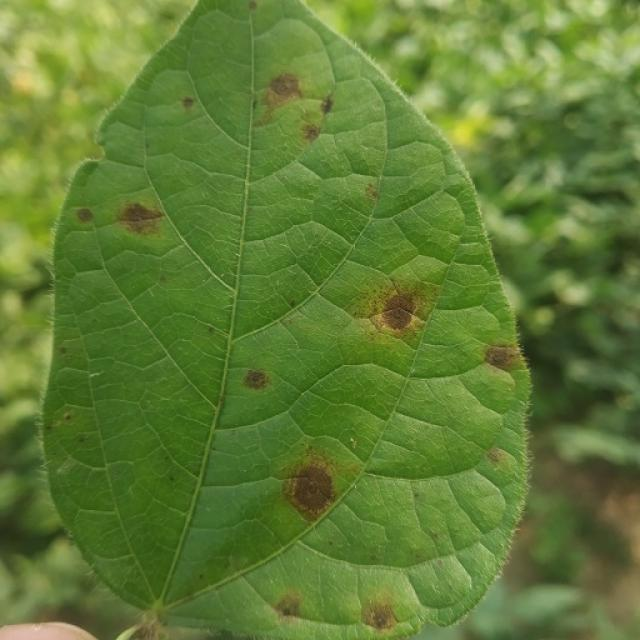Anthracnose: (318, 250, 489, 384), (268, 579, 414, 637), (351, 278, 436, 343), (279, 446, 348, 523), (360, 278, 424, 342), (80, 196, 168, 242), (255, 71, 306, 124), (483, 344, 522, 371), (363, 601, 397, 631), (274, 592, 304, 619), (129, 617, 162, 640), (123, 205, 162, 223), (242, 367, 271, 391), (301, 123, 321, 142), (304, 479, 322, 498), (486, 447, 506, 463), (371, 611, 389, 628), (75, 207, 94, 223), (320, 94, 334, 114), (277, 608, 296, 622), (364, 183, 379, 200), (182, 97, 194, 109), (63, 411, 74, 422), (248, 1, 258, 11), (159, 273, 168, 283)
Blackgram: (42, 0, 529, 639)
